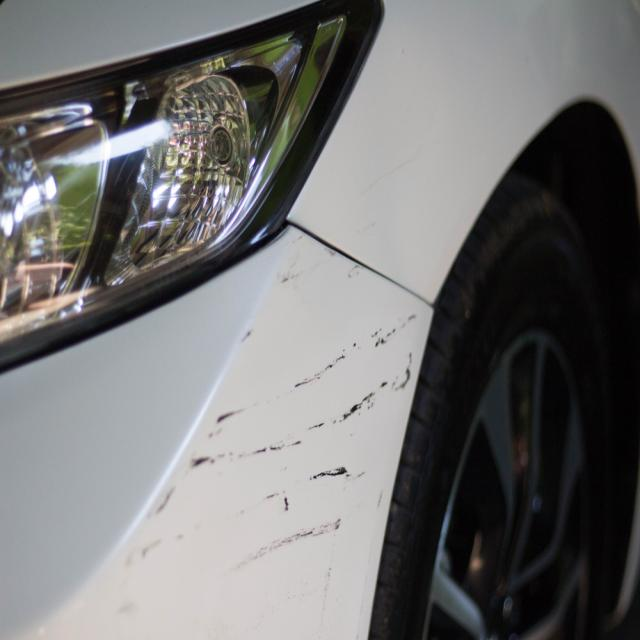Rayure: (124, 255, 428, 625)
